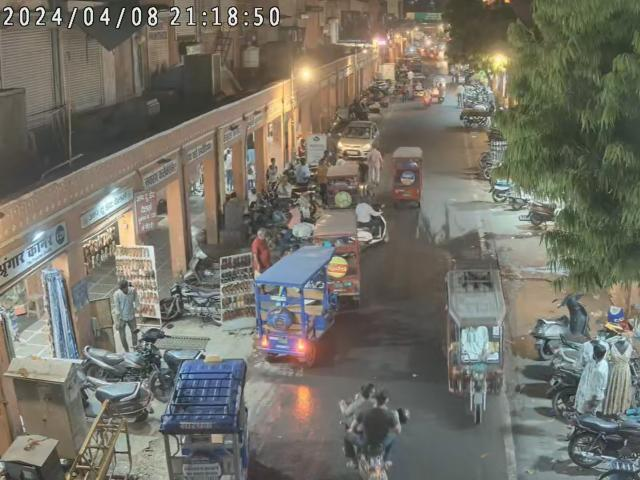auto: (432, 264, 514, 427), (250, 240, 344, 372), (159, 355, 252, 480), (390, 145, 426, 216)
motorbike: (554, 413, 640, 471)
motorbike-rider: (340, 384, 408, 480)
person: (110, 278, 140, 346)
scooty: (59, 376, 155, 432), (531, 292, 594, 367)
